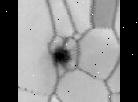good_void: (51, 43, 73, 66)
